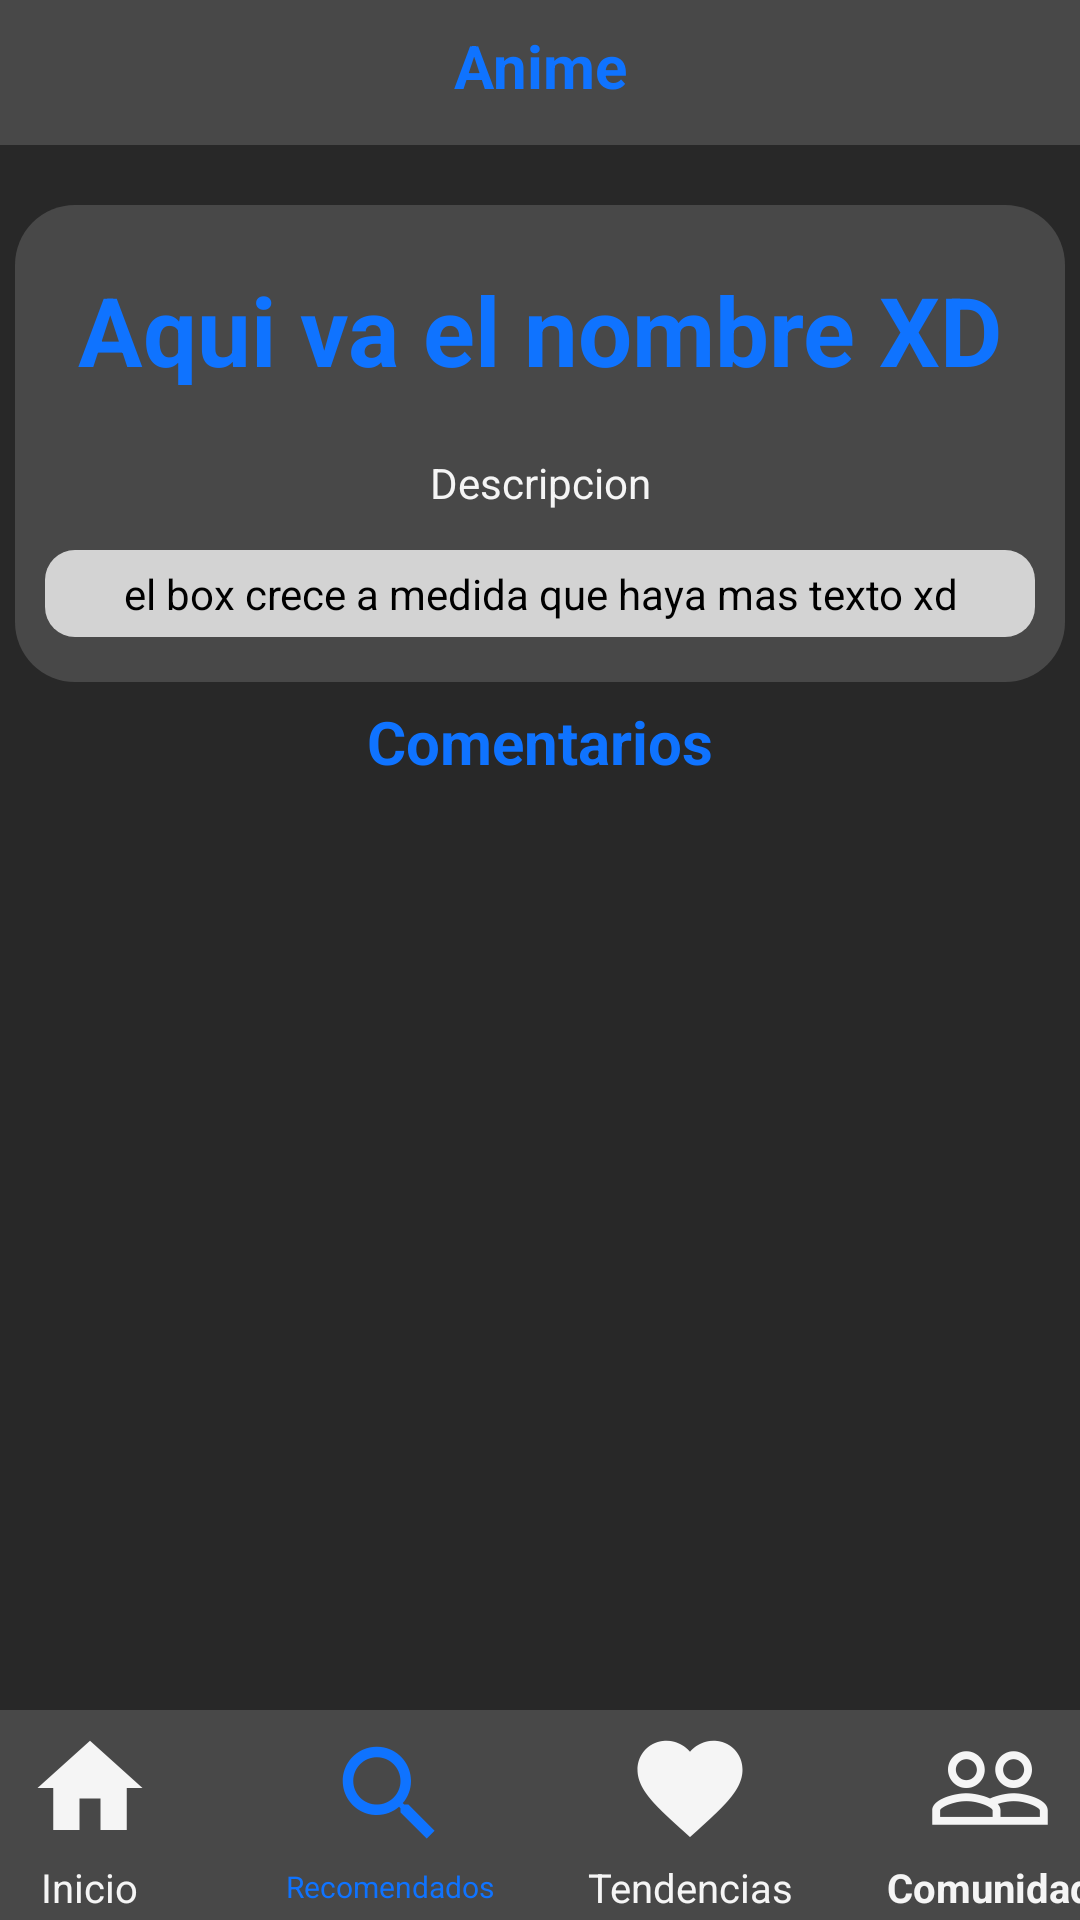

Icons on this 1080 x 1920 Android screen, each with its box as (x1, y1, x2, y2):
search: (342, 1746, 435, 1839)
